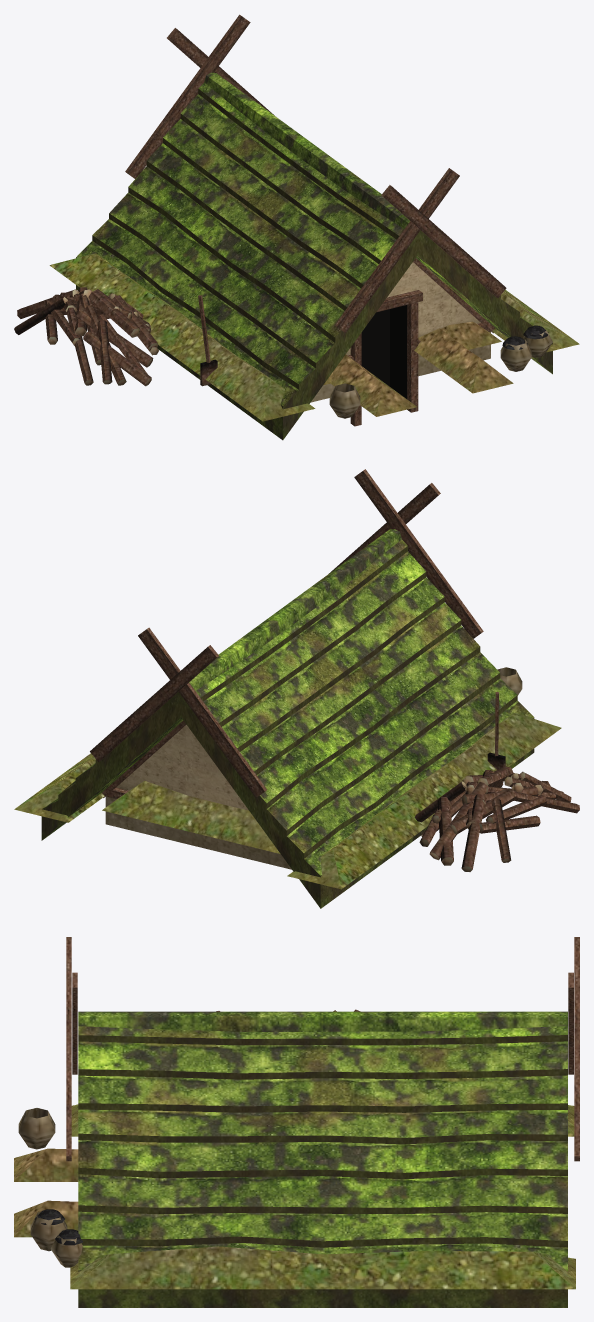
Rendered from uhlir.glb.
3 views of the same model, one above another, from view 1: azimuth 30°, elevation 25°; view 2: azimuth 150°, elevation 25°; view 3: azimuth 270°, elevation 25° (orthographic). The views are drawn at different scales.
Visible parts, largest first — view 1: uhlir; view 2: uhlir; view 3: uhlir.
Part boxes in pixels (x1,y1,x2,y2): uhlir: (14,14,579,440); uhlir: (14,469,579,908); uhlir: (14,937,579,1307).
Bounding box in the file's own units: 7.09 × 4.34 × 7.05.
1 material, 1 textured.
